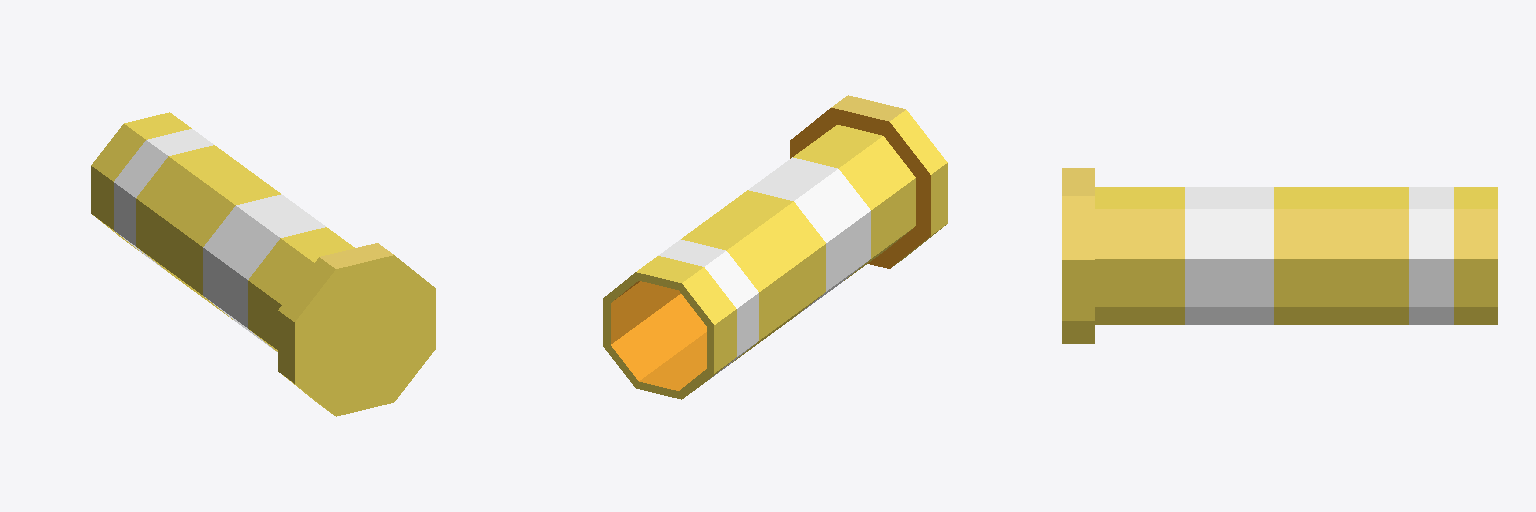
3 renders of one model, left to right at view 1: azimuth 30°, elevation 25°; view 2: azimuth 150°, elevation 25°; view 3: azimuth 270°, elevation 25°, orthographic.
Parts seen in each view (by area): view 1: cylinder; view 2: cylinder; view 3: cylinder.
Boxes of the visible parts, x1=… form: cylinder: x1=91, y1=112, x2=435, y2=416; cylinder: x1=603, y1=95, x2=947, y2=399; cylinder: x1=1062, y1=168, x2=1497, y2=343.
Bounding box in the file's own units: 0.2375 × 0.2375 × 0.6375.
1 materials, 1 textured.